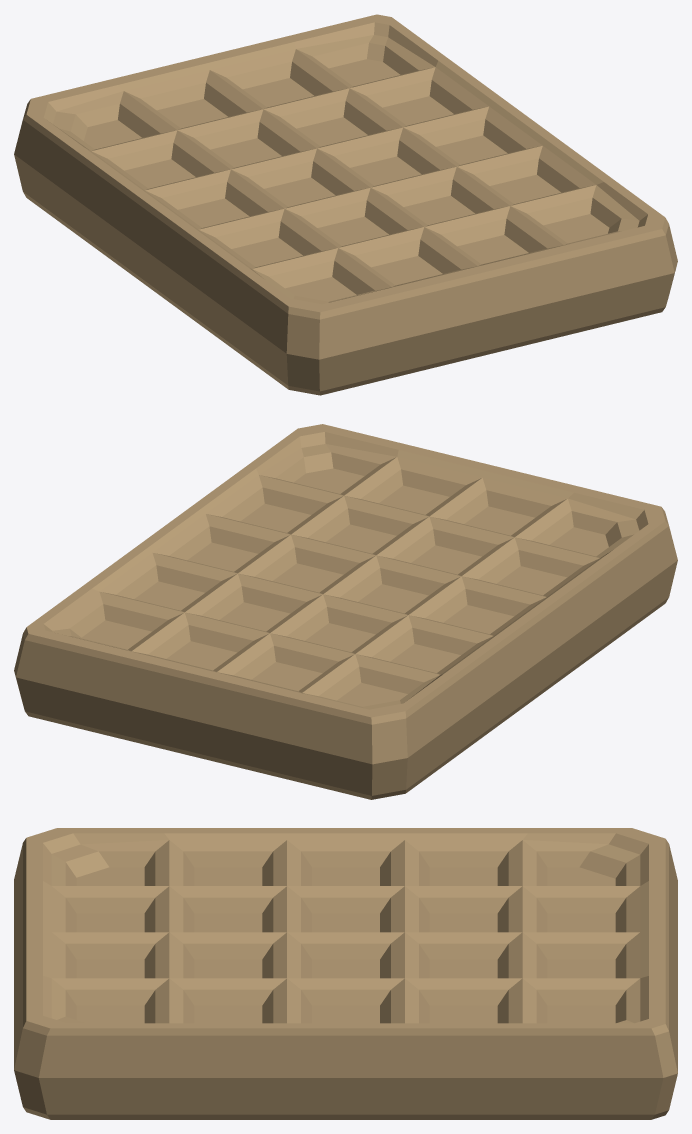
The model's file is Waffle.glb.
3 renders of one model, top to bottom at view 1: azimuth 30°, elevation 25°; view 2: azimuth 150°, elevation 25°; view 3: azimuth 270°, elevation 25°, orthographic. The views are drawn at different scales.
Visible parts, largest first — view 1: Waffle; view 2: Waffle; view 3: Waffle.
Part boxes in pixels (x1,y1,x2,y2): Waffle: (14,14,677,395); Waffle: (14,424,677,799); Waffle: (14,828,677,1119).
Size of the model in its own units: 1.13 by 0.2322 by 1.53.
